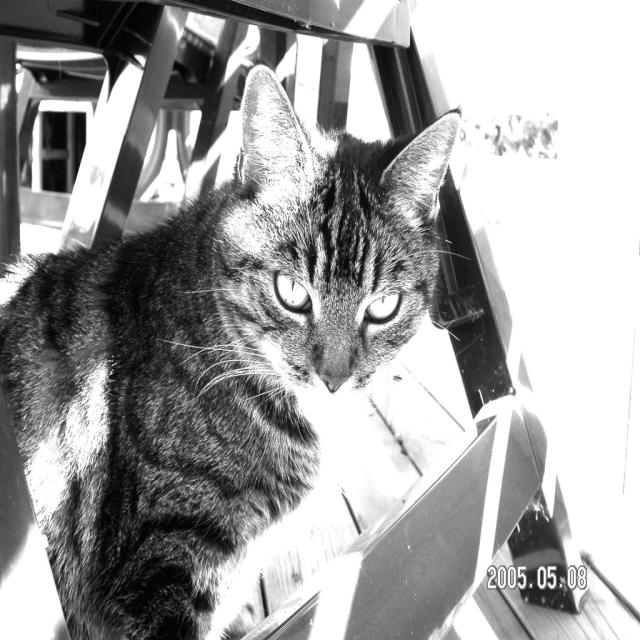left eye: (362, 288, 403, 326)
